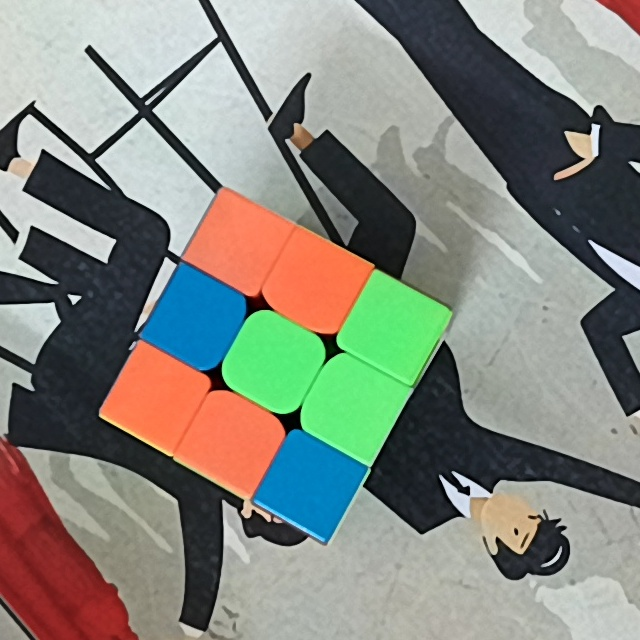tile: (363, 296, 426, 358), (322, 376, 388, 434), (201, 411, 263, 472), (280, 453, 341, 515), (284, 253, 347, 313), (241, 333, 303, 393), (128, 364, 183, 428), (207, 216, 269, 272), (172, 290, 226, 348)
